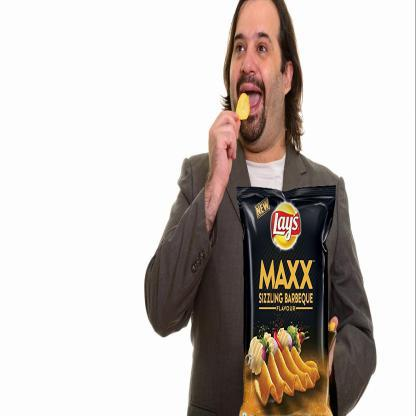maxx_sizzling_barbeque: (238, 189, 332, 413)
